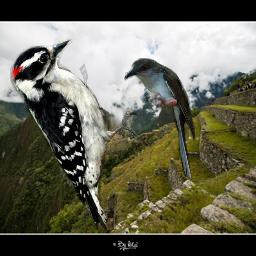Cuckoo: (124, 58, 197, 178)
Woodpecker: (10, 39, 149, 230)
